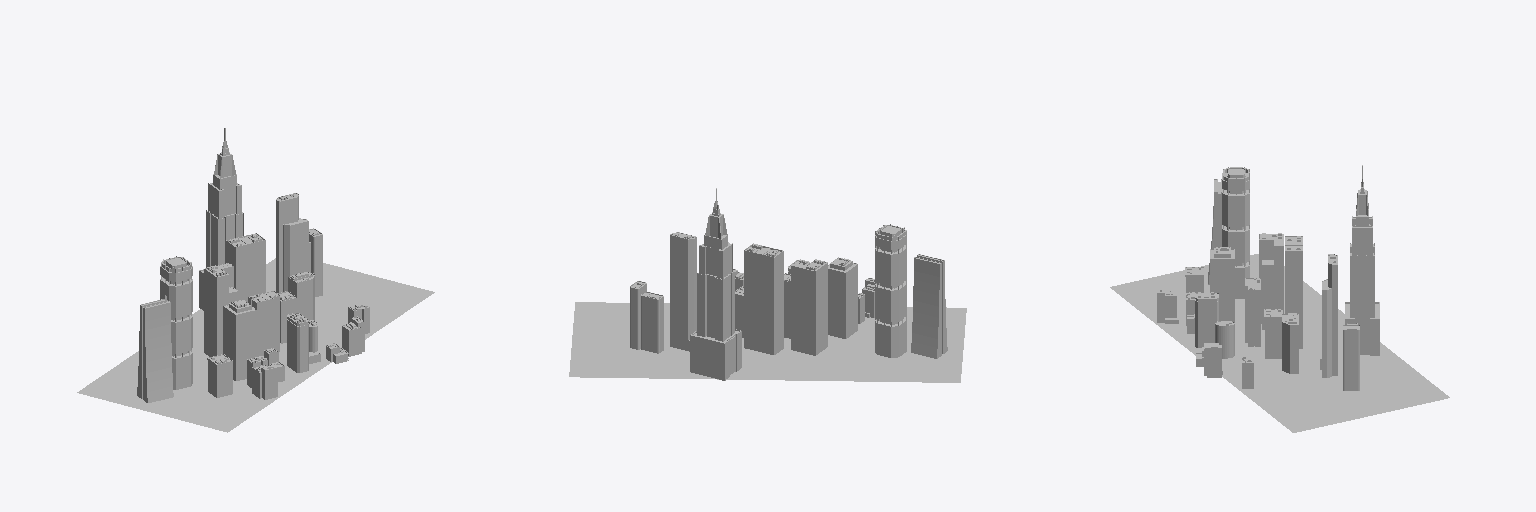
Rendered from skycrappers.obj.
3 renders of one model, left to right at view 1: azimuth 30°, elevation 25°; view 2: azimuth 150°, elevation 25°; view 3: azimuth 270°, elevation 25°, orthographic.
Visible parts, largest first — view 1: ground, 立方体.007, 立方体.010, 立方体.011, 立方体.002, 立方体.003, 立方体.004, 立方体.001, 立方体.005, 立方体.016, 立方体.018, 立方体.009 (+4 smaller); view 2: ground, 立方体.007, 立方体.001, 立方体.011, 立方体.003, 立方体.010, 立方体.002, 立方体.004, 立方体.006; view 3: ground, 立方体.007, 立方体.011, 立方体.003, 立方体.002, 立方体.004, 立方体.001, 立方体.006, 立方体.016, 立方体.005, 立方体.009, 立方体 (+4 smaller).
Part boxes in pixels (bbox=[...]): ground: bbox=[77, 258, 434, 432]; 立方体.007: bbox=[199, 128, 243, 310]; 立方体.010: bbox=[137, 295, 173, 402]; 立方体.011: bbox=[160, 256, 192, 389]; 立方体.002: bbox=[276, 193, 308, 292]; 立方体.003: bbox=[204, 263, 237, 356]; 立方体.004: bbox=[223, 300, 256, 380]; 立方体.001: bbox=[226, 233, 265, 302]; 立方体.005: bbox=[248, 291, 279, 356]; 立方体.016: bbox=[287, 313, 308, 372]; 立方体.018: bbox=[207, 354, 232, 397]; 立方体.009: bbox=[288, 272, 314, 320]; ground: bbox=[569, 302, 966, 382]; 立方体.007: bbox=[690, 188, 741, 380]; 立方体.001: bbox=[744, 243, 783, 354]; 立方体.011: bbox=[875, 224, 906, 357]; 立方体.003: bbox=[791, 259, 827, 355]; 立方体.010: bbox=[911, 254, 947, 358]; 立方体.002: bbox=[670, 232, 696, 351]; 立方体.004: bbox=[828, 257, 857, 338]; 立方体.006: bbox=[630, 281, 663, 353]; ground: bbox=[1110, 254, 1449, 432]; 立方体.007: bbox=[1345, 165, 1379, 355]; 立方体.011: bbox=[1222, 167, 1249, 298]; 立方体.003: bbox=[1259, 233, 1283, 329]; 立方体.002: bbox=[1320, 254, 1337, 377]; 立方体.004: bbox=[1210, 247, 1234, 322]; 立方体.001: bbox=[1285, 236, 1302, 348]; 立方体.006: bbox=[1343, 323, 1359, 390]; 立方体.016: bbox=[1195, 293, 1218, 347]; 立方体.005: bbox=[1245, 278, 1260, 346]; 立方体.009: bbox=[1282, 313, 1298, 373]; 立方体: bbox=[1264, 309, 1282, 358].
Bounding box in the file's own units: 5.74 × 2.81 × 4.56.